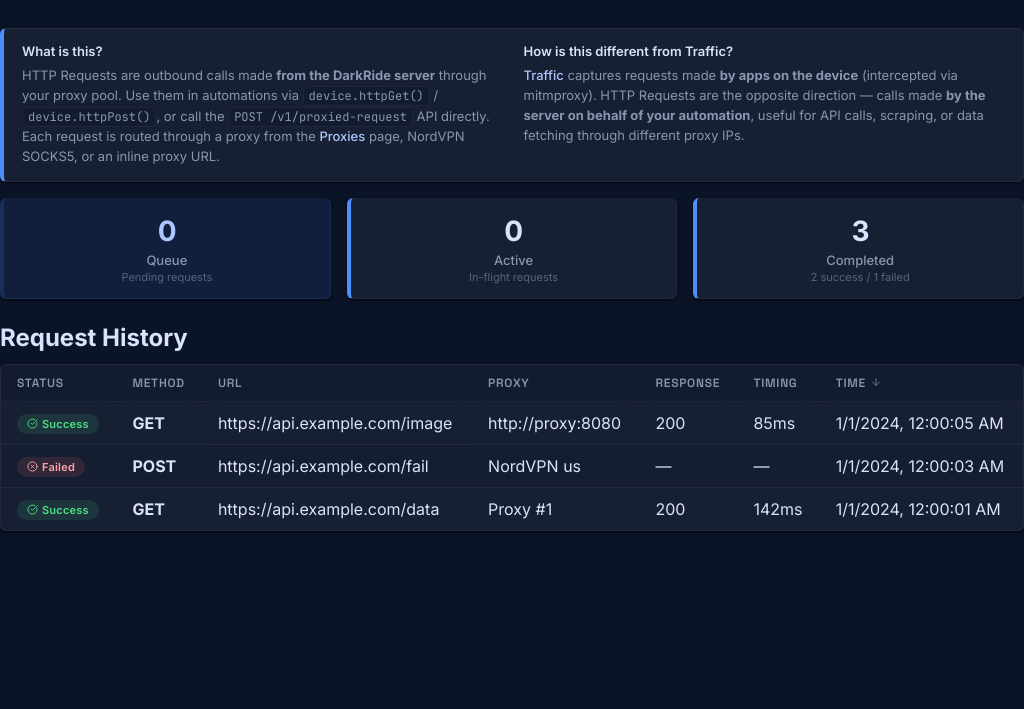
it: ProxiedRequests › expands row to show detail
The image size is (1024, 709).
Click the row with test id "row-req_1". click: (512, 508)
box: [1,487,1023,530]
(page scrolled)
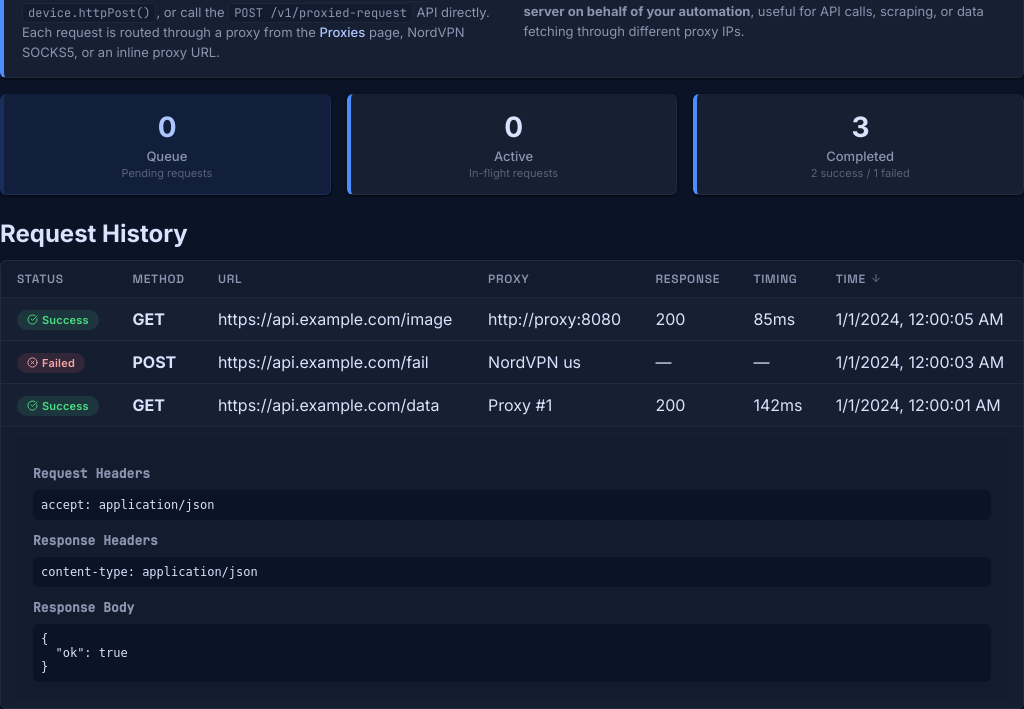
Check: the element with test id "detail-req_1" is shown, box [17,437,1007,698]
Check: the element with test id "detail-req_1" shows "accept: application/json", box [41,498,214,512]
Check: the element with test id "detail-req_1" shows "\"ok\": true", box [41,632,128,674]
